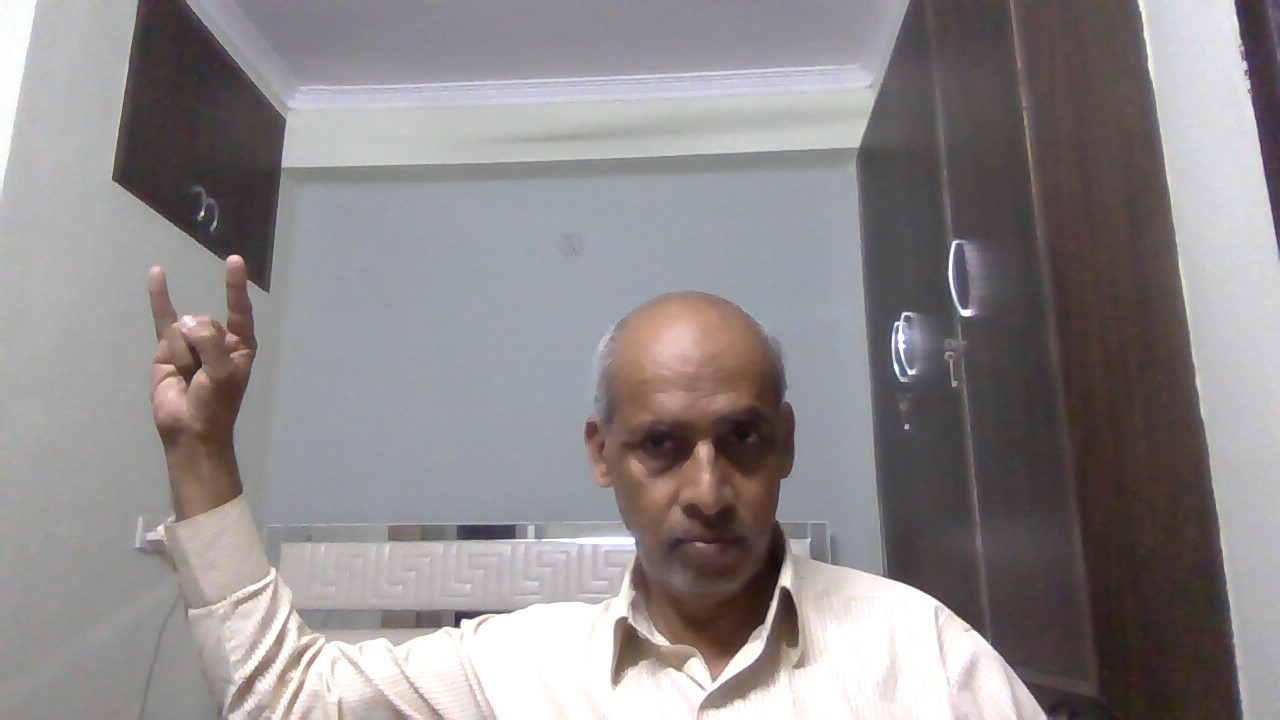Select All: (126, 247, 274, 442)
